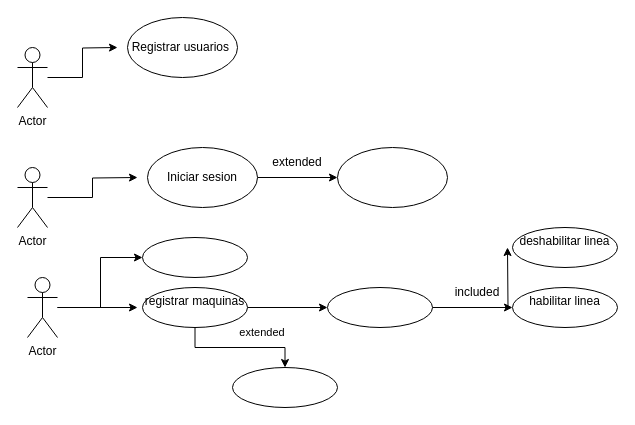
Some shapes in this 635 by 425 pixel diagram are drawn without their labels. Each missing label, with the centre of its shape:
"asignar una linea" goes at point (379, 307).
"Cerrar sesion" goes at point (392, 177).
"registrar obreros" goes at point (195, 257).
"registrar reemplazo de maquina" goes at point (285, 387).
